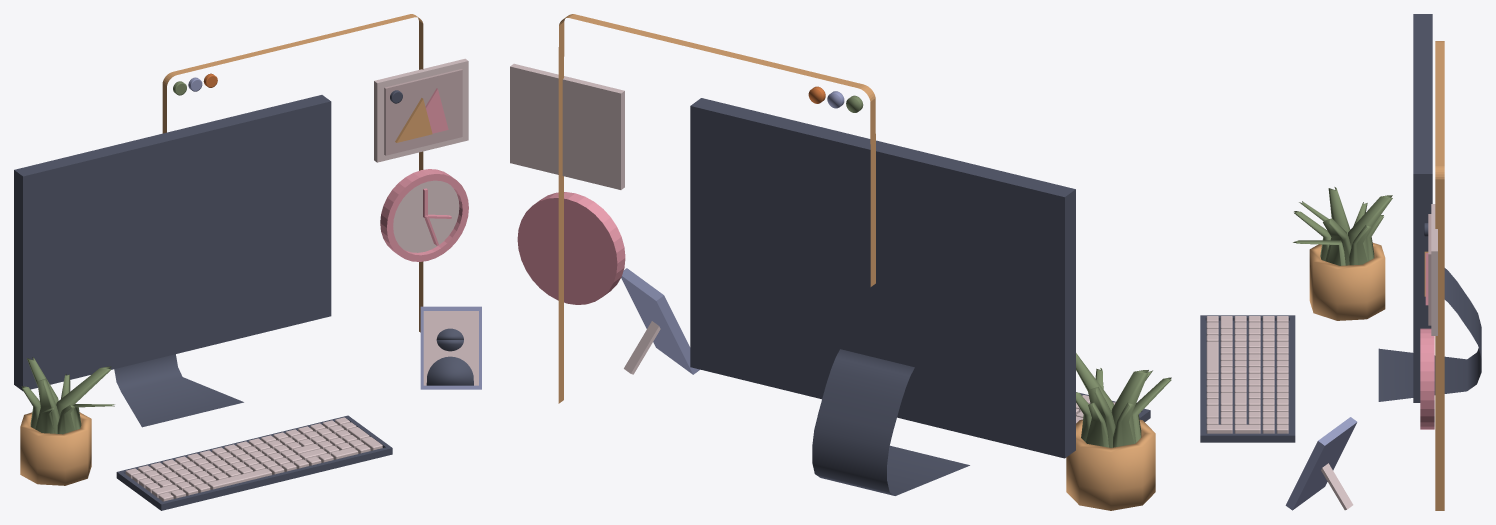
3 renders of one model, left to right at view 1: azimuth 30°, elevation 25°; view 2: azimuth 150°, elevation 25°; view 3: azimuth 270°, elevation 25°, orthographic. The views are drawn at different scales.
Parts seen in each view (by area): view 1: Clock.001; view 2: Clock.001; view 3: Clock.001.
Part boxes in pixels (<box>): Clock.001: <box>14,14,481,510</box>; Clock.001: <box>510,14,1171,510</box>; Clock.001: <box>1200,14,1481,510</box>.
Bounding box in the file's own units: 9.4 × 6.07 × 4.45.
